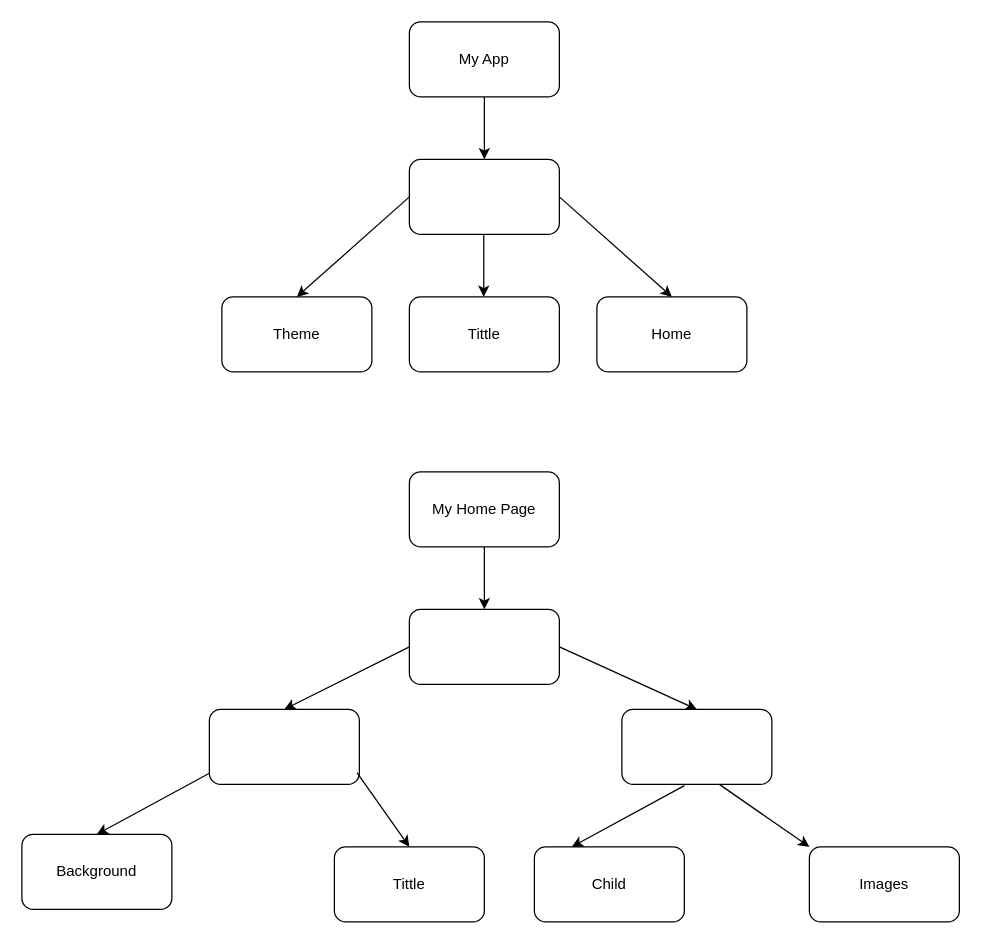
The diagram is 981 pixels wide and 944 high, and some of its shapes have lost their labels. The centre of each missing label's shape, as x and y in pixels:
App bar: (x=283, y=746)
Body: (x=696, y=746)
Material App: (x=483, y=196)
Scaffoid: (x=483, y=646)
